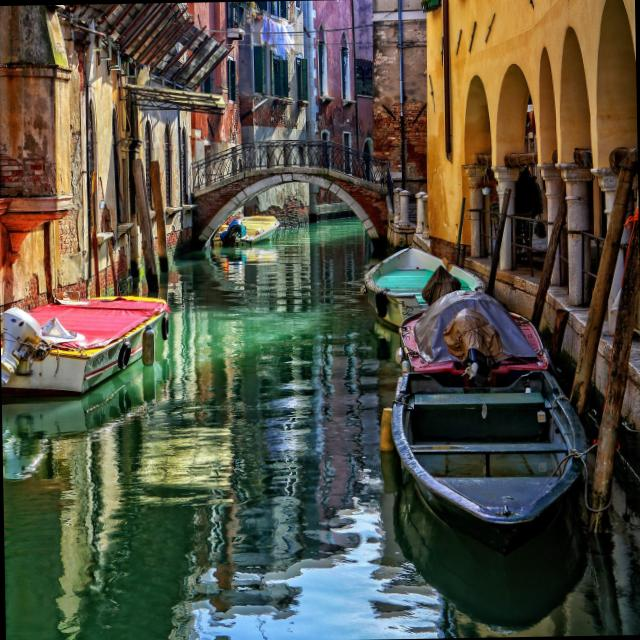boat: (380, 279, 604, 568)
